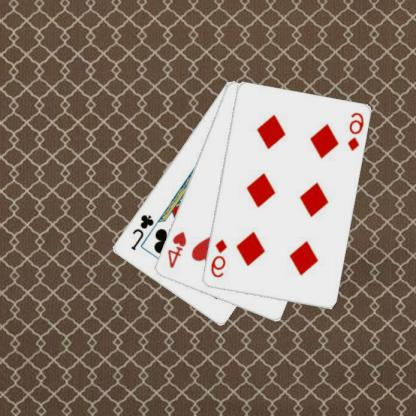4H: (166, 229, 189, 270)
6D: (209, 237, 230, 279), (346, 110, 367, 152)
JC: (130, 211, 157, 252)
